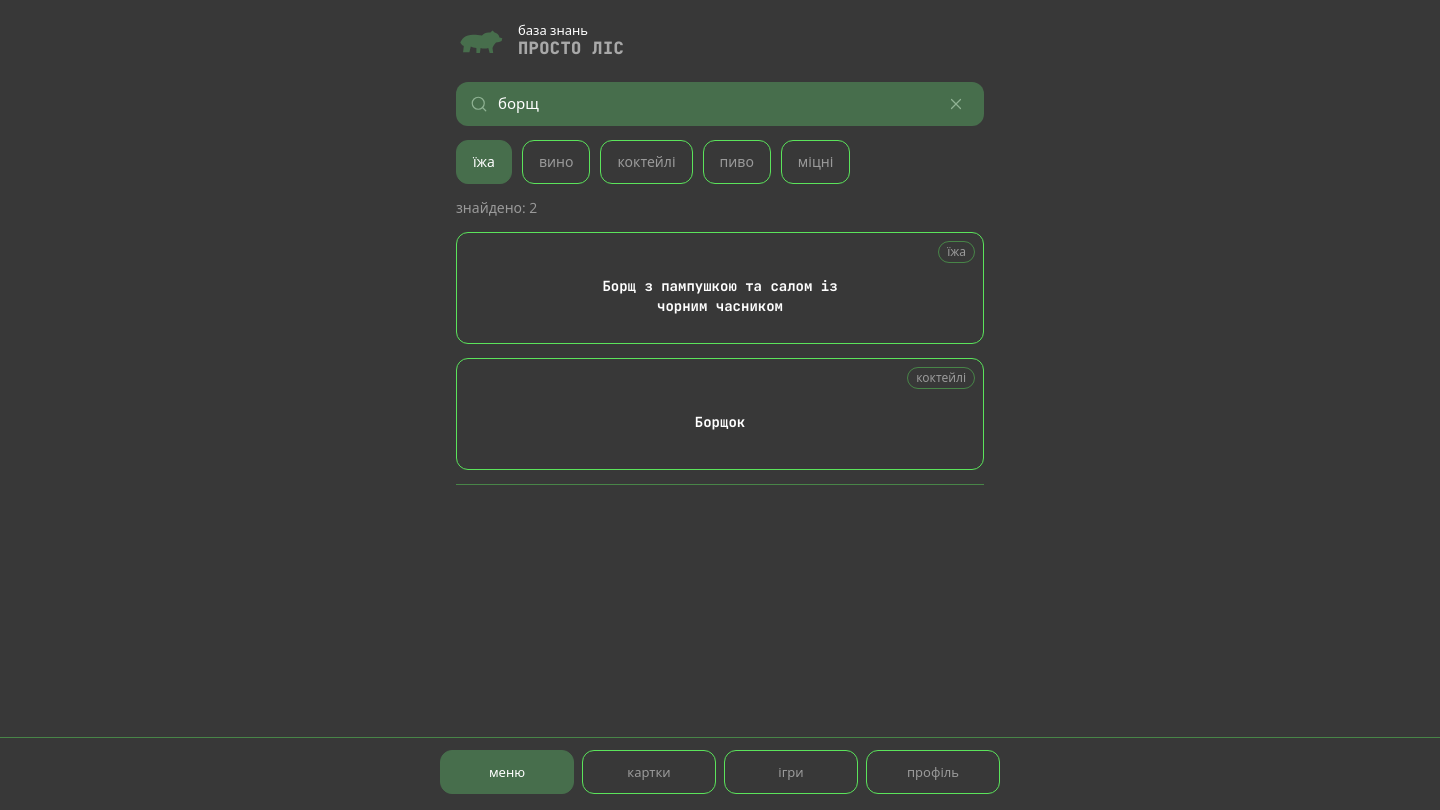
Test: ItemDetailView (mobile) › returns to the list with the search intact when opened from it
Click the link "їжа Борщ з пампушкою та салом із чорним часником": (720, 288) [456, 232, 984, 344]
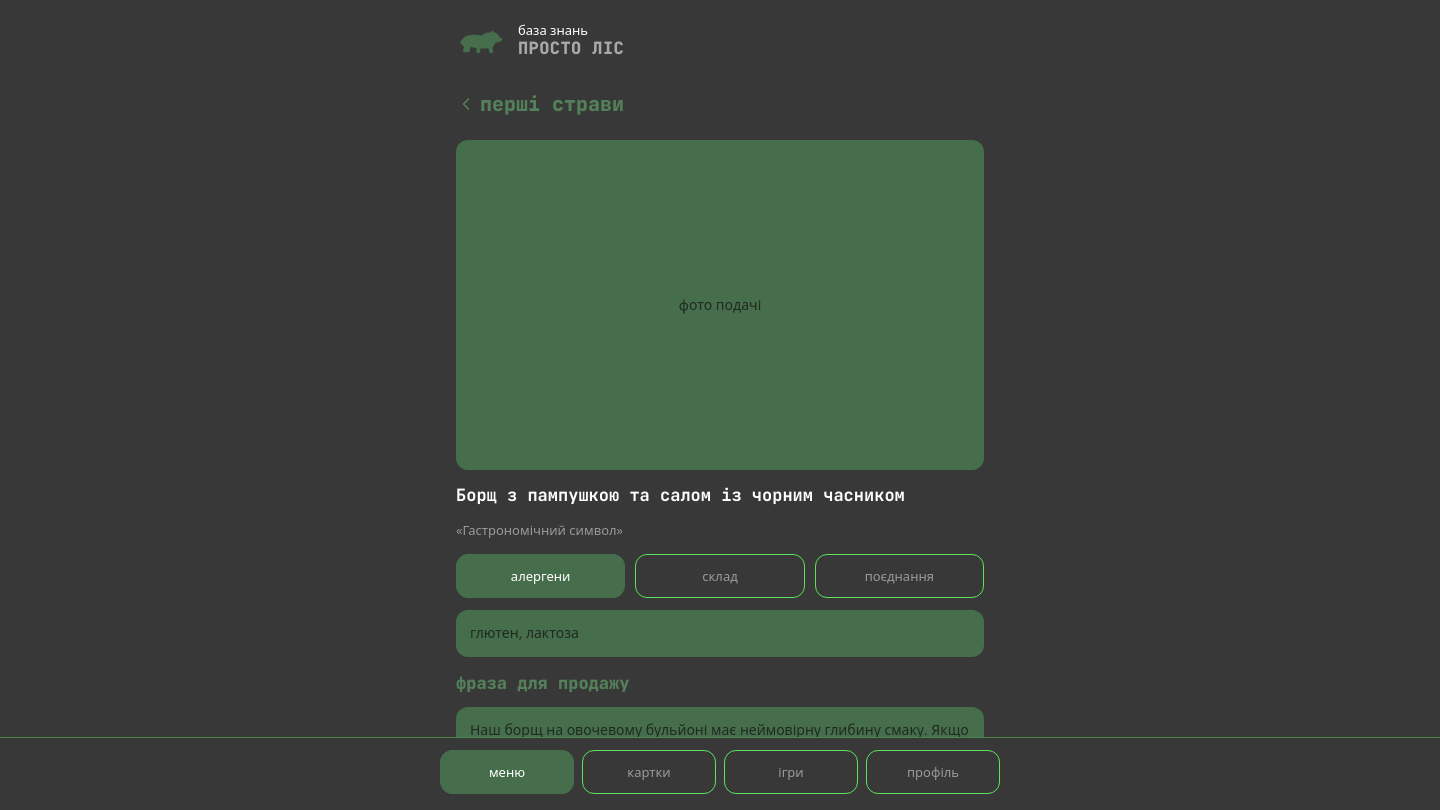
Click the button with aria-label "назад": (540, 104) [456, 82, 624, 126]
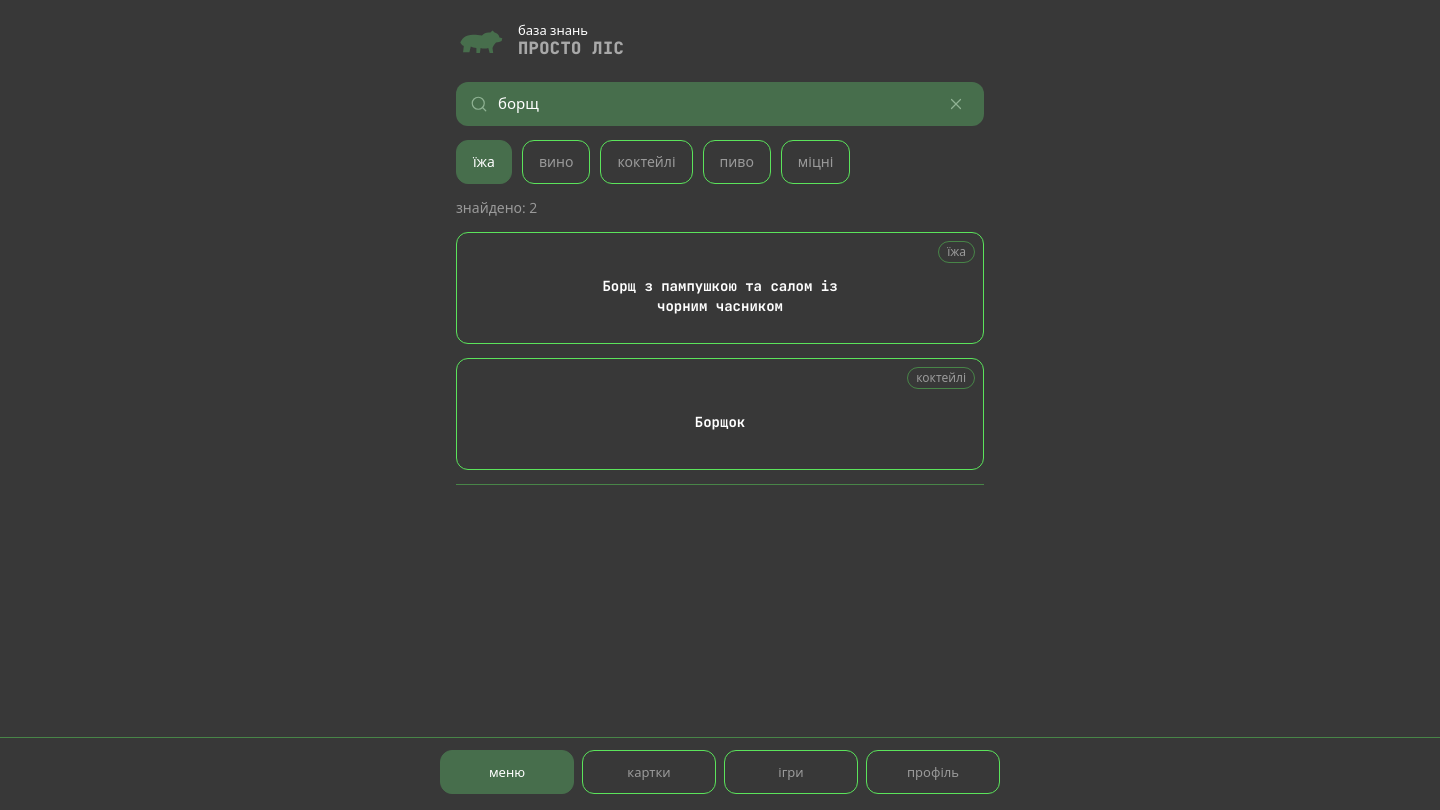
Now the search field holds "борщ", box [498, 82, 924, 125]
